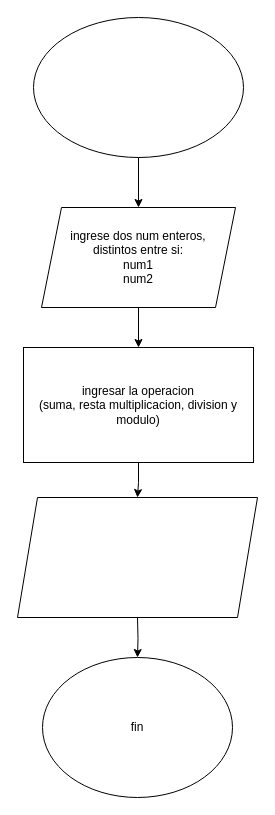
Image size: 275x815. Some labels were removed from this diagram. The shapes that lost their labels are listed below. From the top down, each one's centre as x and y in pixels, then its label:
At (x=138, y=87): "Inicio".
At (x=137, y=557): "Escribir el resultado de cada operacion en el documento.".
